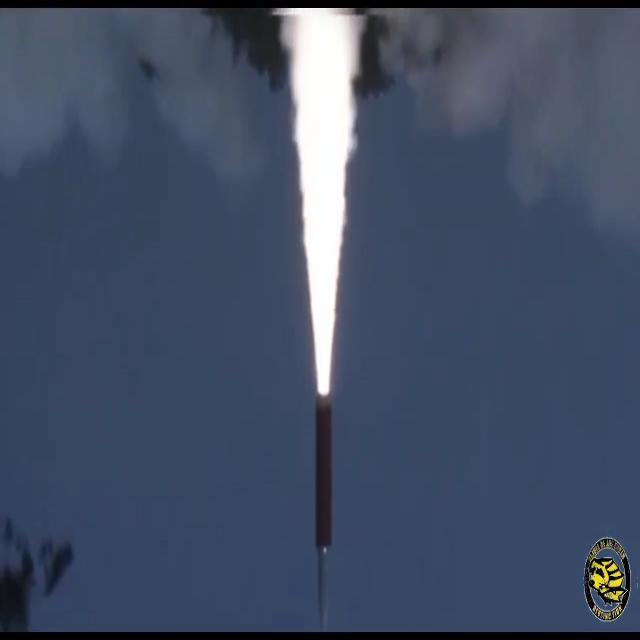Missile: (311, 388, 336, 640)
